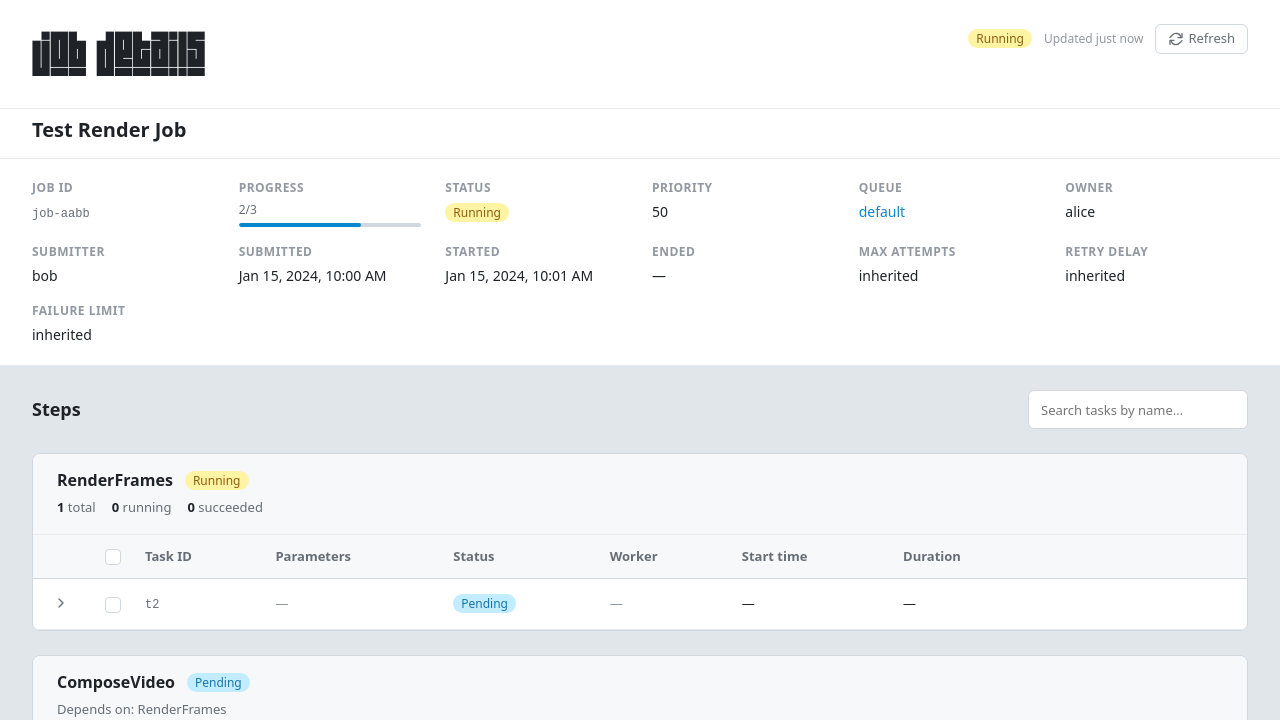
JobDetail › attempt timeline › shows an empty state when a task has no recorded attempts
This screenshot has width=1280, height=720.
Click the button named "attempts for render[Frame=3]" at (61, 603), box x1=49 y1=591 x2=73 y2=615
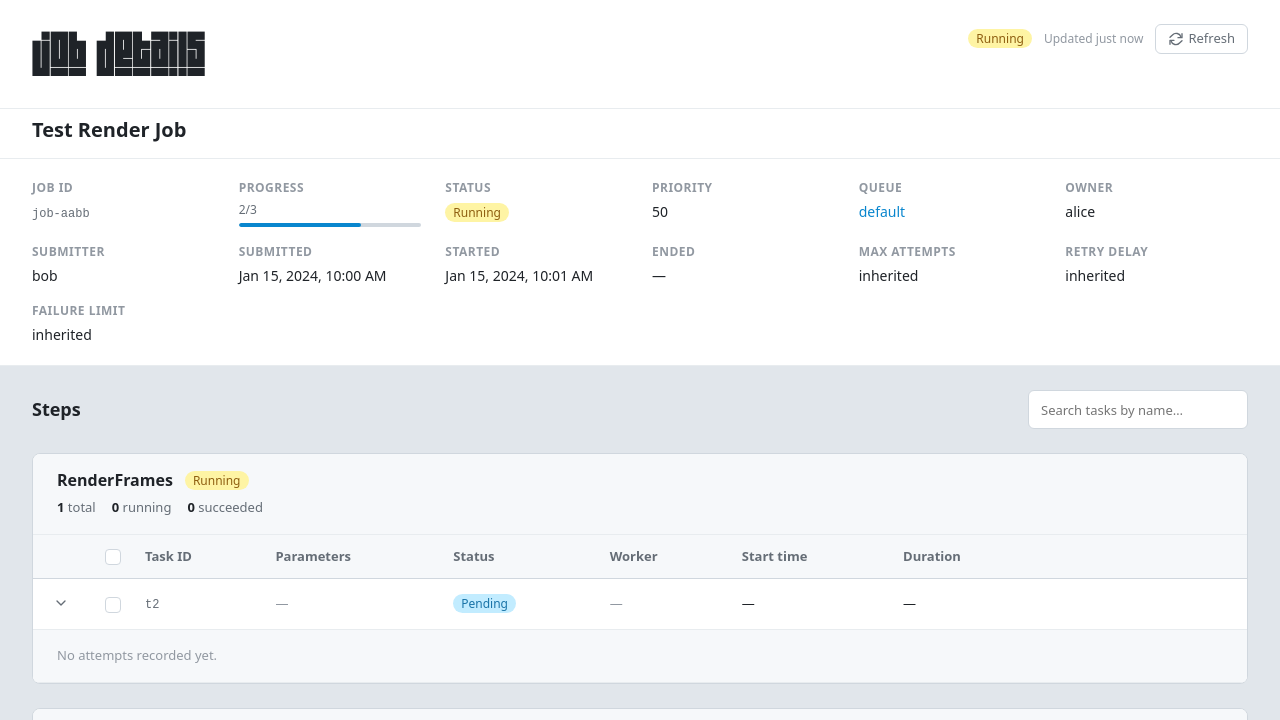
expect the text "No attempts recorded yet." is shown: met, box x1=57 y1=646 x2=217 y2=664
